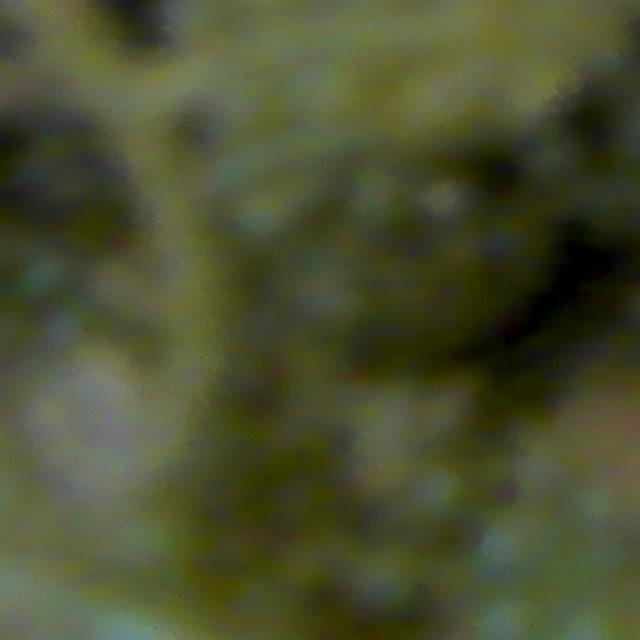SeaGrape: (471, 504, 563, 589), (347, 539, 427, 616), (403, 457, 471, 526), (345, 163, 410, 231), (469, 586, 544, 640), (433, 0, 505, 56), (401, 93, 447, 151), (250, 17, 305, 65), (345, 29, 403, 68)
